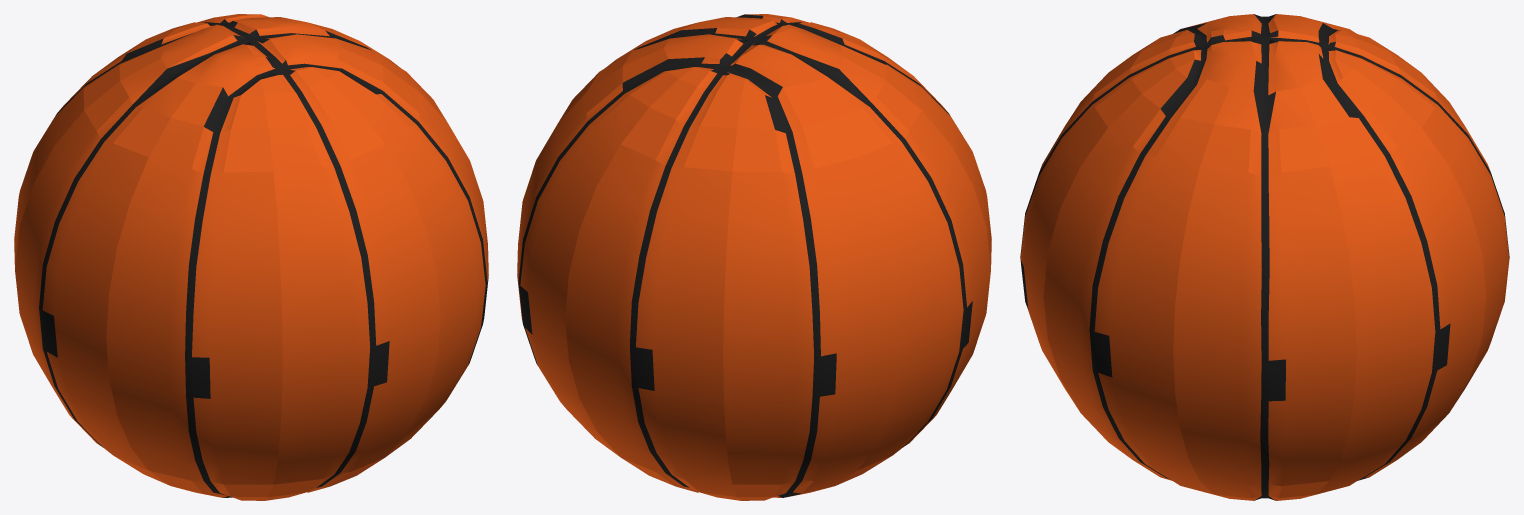
Rendered from basketball.fbx.
3 views of the same model, side by side, from view 1: azimuth 30°, elevation 25°; view 2: azimuth 150°, elevation 25°; view 3: azimuth 270°, elevation 25° (orthographic).
Visible parts, largest first — view 1: Sphere; view 2: Sphere; view 3: Sphere.
Boxes of the visible parts, x1,y1,x2,y2 form: Sphere: [14, 14, 488, 500]; Sphere: [517, 14, 991, 500]; Sphere: [1020, 14, 1509, 500].
Bounding box in the file's own units: 198 × 198 × 198.
